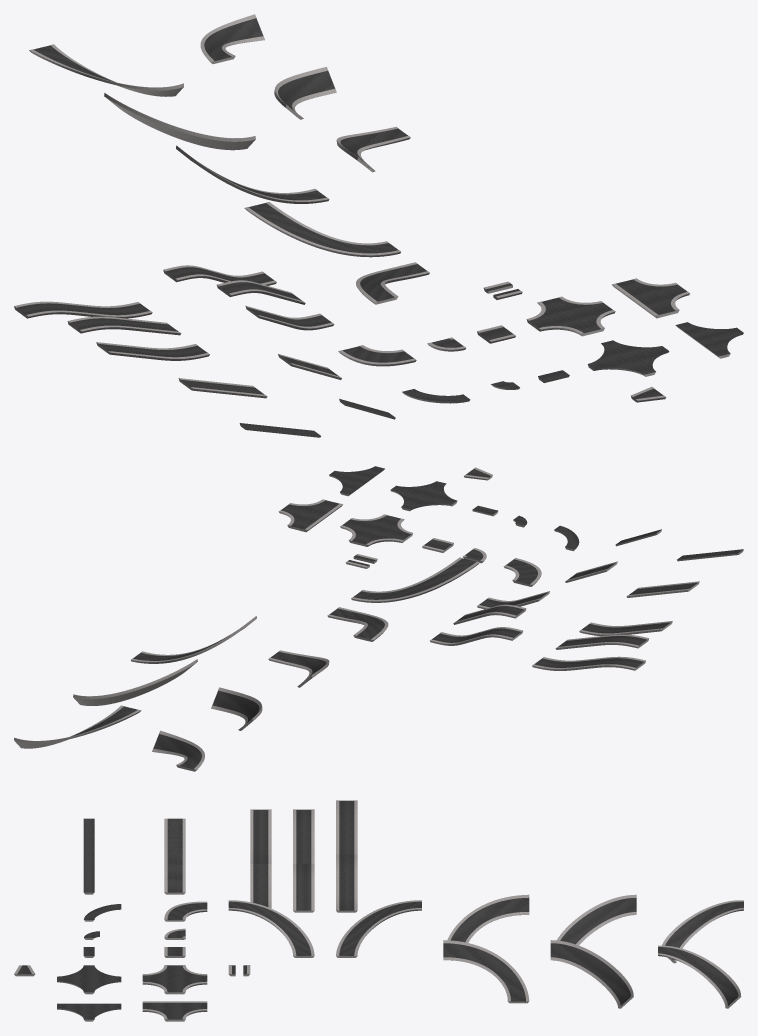
Rendered from Streets_NOGRASS.glb.
The picture shows the model from 3 angles, top to bottom: view 1: azimuth 30°, elevation 25°; view 2: azimuth 150°, elevation 25°; view 3: azimuth 270°, elevation 25°; orthographic projection. The views are drawn at different scales.
Visible parts, largest first — view 1: Normal-C-Ramp-R-col, Normal-Big Intersection-col, Normal-C-Bank-to-Ramp-L-col, Normal-T-Junction-col, Normal-Long-Ramp-EaseInOut-col, Narrow-Big-Intersection-col, Normal-C-Bank-to-Bank-L-col, Normal-C-Bank-to-Bank-R-col, Normal-C-Ramp-L-col, Normal-C-Bank-to-Ramp-R-col, Normal-Long-Ramp-EaseOut-col, Normal-Long-Ramp-EaseIn-col (+8 smaller); view 2: Normal-C-Ramp-L-col, Normal-Big Intersection-col, Normal-Long-Ramp-EaseInOut-col, Narrow-Big-Intersection-col, Normal-C-Bank-to-Ramp-R-col, Normal-T-Junction-col, Normal-C-Bank-to-Bank-R-col, Normal-C-Bank-to-Bank-L-col, Normal-C-Ramp-R-col, Normal-C-Bank-to-Ramp-L-col, Normal-Ramp-EaseInOut-col, Normal-Long-Ramp-EaseOut-col (+7 smaller); view 3: Normal-C-Bank-to-Bank-L-col, Normal-C-Ramp-to-Bank-L-col, Normal-C-Bank-to-Bank-R-col, Normal-C-Ramp-to-Bank-R-col, Normal-C-Bank-to-Ramp-L-col, Normal-C-Ramp-L-col, Normal-C-Ramp-R-col, Normal-C-Bank-to-Ramp-R-col, Normal-Ramp-EaseInOut-col, Normal-Big Intersection-col, Normal-Long-Ramp-EaseIn-col, Normal-Long-Ramp-EaseOut-col (+11 smaller).
Boxes of the visible parts, x1,y1,x2,y2 form: Normal-C-Ramp-R-col: [244, 202, 400, 257]; Normal-Big Intersection-col: [526, 296, 615, 336]; Normal-C-Bank-to-Ramp-L-col: [200, 14, 264, 63]; Normal-T-Junction-col: [612, 278, 689, 318]; Normal-Long-Ramp-EaseInOut-col: [14, 301, 152, 318]; Narrow-Big-Intersection-col: [587, 340, 669, 376]; Normal-C-Bank-to-Bank-L-col: [274, 66, 336, 119]; Normal-C-Bank-to-Bank-R-col: [104, 93, 255, 150]; Normal-C-Ramp-L-col: [356, 262, 429, 304]; Normal-C-Bank-to-Ramp-R-col: [29, 44, 183, 96]; Normal-Long-Ramp-EaseOut-col: [67, 316, 181, 335]; Normal-Long-Ramp-EaseIn-col: [96, 342, 209, 360]; Normal-C-Ramp-L-col: [351, 557, 479, 602]; Normal-Big Intersection-col: [340, 514, 412, 546]; Normal-Long-Ramp-EaseInOut-col: [532, 656, 645, 670]; Narrow-Big-Intersection-col: [390, 481, 457, 511]; Normal-C-Bank-to-Ramp-R-col: [152, 730, 204, 771]; Normal-T-Junction-col: [278, 499, 342, 532]; Normal-C-Bank-to-Bank-R-col: [211, 687, 262, 730]; Normal-C-Bank-to-Bank-L-col: [73, 659, 197, 705]; Normal-C-Ramp-R-col: [327, 607, 388, 641]; Normal-C-Bank-to-Ramp-L-col: [14, 705, 141, 748]; Normal-Ramp-EaseInOut-col: [430, 627, 522, 645]; Normal-Long-Ramp-EaseOut-col: [555, 634, 648, 649]; Normal-C-Bank-to-Bank-L-col: [550, 940, 633, 1008]; Normal-C-Ramp-to-Bank-L-col: [443, 940, 529, 1003]; Normal-C-Bank-to-Bank-R-col: [557, 894, 636, 945]; Normal-C-Ramp-to-Bank-R-col: [447, 894, 529, 942]; Normal-C-Bank-to-Ramp-L-col: [658, 945, 741, 1008]; Normal-C-Ramp-L-col: [228, 900, 314, 957]; Normal-C-Ramp-R-col: [336, 900, 421, 957]; Normal-C-Bank-to-Ramp-R-col: [662, 900, 743, 963]; Normal-Ramp-EaseInOut-col: [336, 854, 357, 912]; Normal-Big Intersection-col: [142, 965, 207, 994]; Normal-Long-Ramp-EaseIn-col: [250, 809, 271, 863]; Normal-Long-Ramp-EaseOut-col: [293, 809, 314, 863].
Bounding box in the file's own units: 440 × 34.64 × 680.
Materials: 30 (30 with a texture image).
